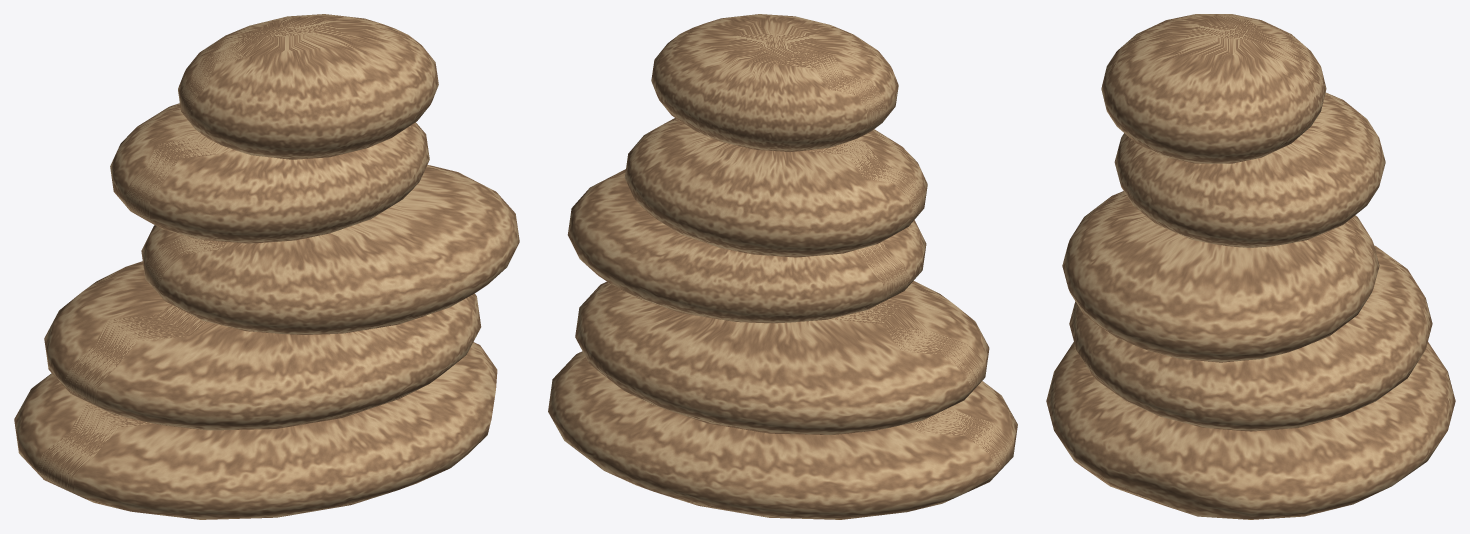
File: obstacle_big_0.dae
The picture shows the model from 3 angles, left to right: view 1: azimuth 30°, elevation 25°; view 2: azimuth 150°, elevation 25°; view 3: azimuth 270°, elevation 25°; orthographic projection. The views are drawn at different scales.
Parts seen in each view (by area): view 1: obstacle_big_0; view 2: obstacle_big_0; view 3: obstacle_big_0.
Boxes of the visible parts, <box> form: obstacle_big_0: <box>14,14,519,519</box>; obstacle_big_0: <box>548,14,1017,519</box>; obstacle_big_0: <box>1046,14,1455,519</box>.
Size of the model in its own units: 1 by 0.8 by 0.9214.
Materials: 1 (1 with a texture image).
